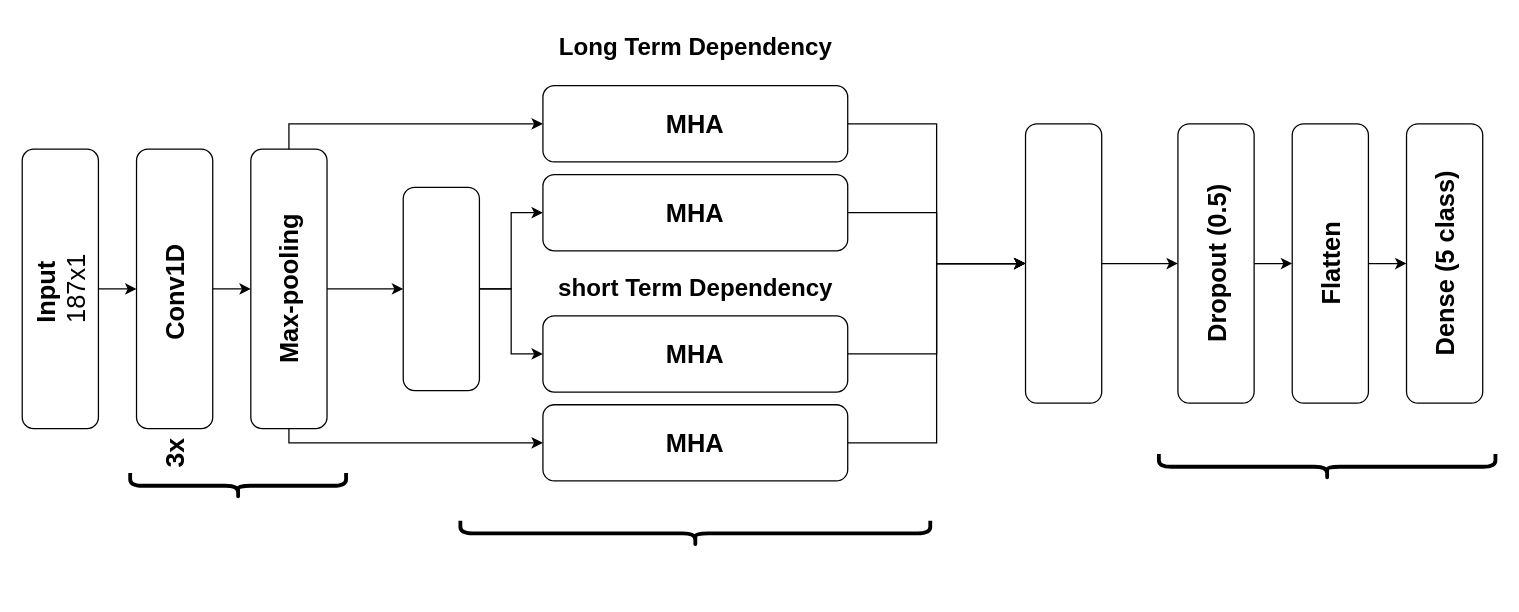
This 1519x612 diagram has some shape labels left out. The shapes that lost their labels are listed below. From the top down, each one's centre as x and y in pixels, then its label:
the point at 1063,263: Concatenation
the point at 440,288: Invert
the point at 237,485: Feature Extraction
the point at 1326,466: Classification
the point at 695,532: Temporal Dependency
